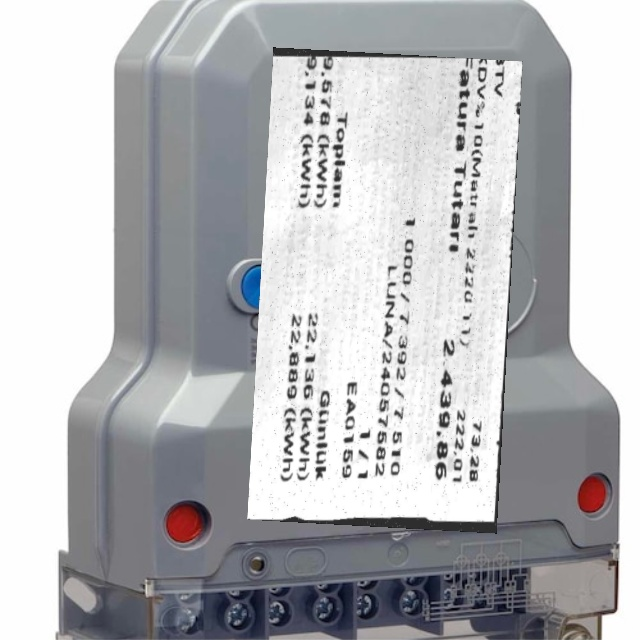electricity-bill: (246, 46, 522, 534)
